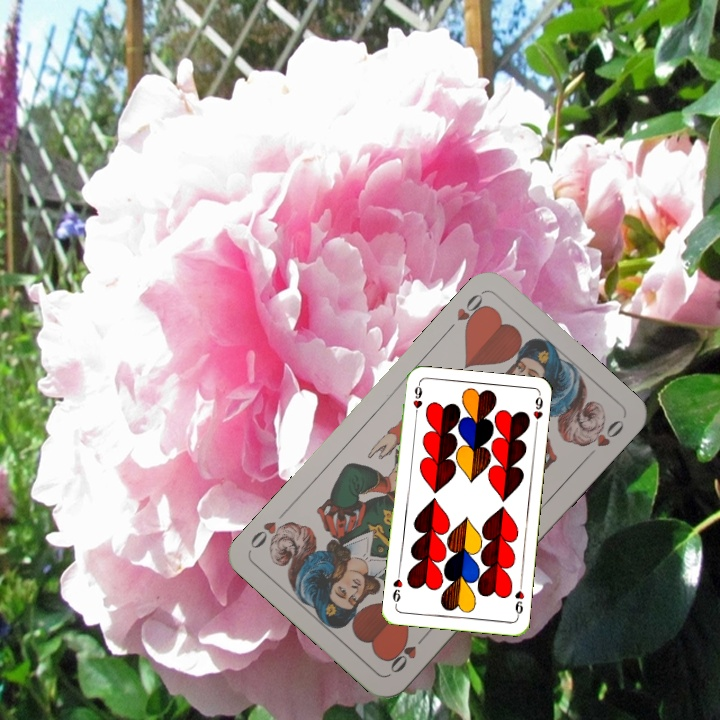H9: (511, 579, 527, 620), (409, 380, 425, 421)
HO: (441, 289, 491, 336), (386, 629, 430, 676)
